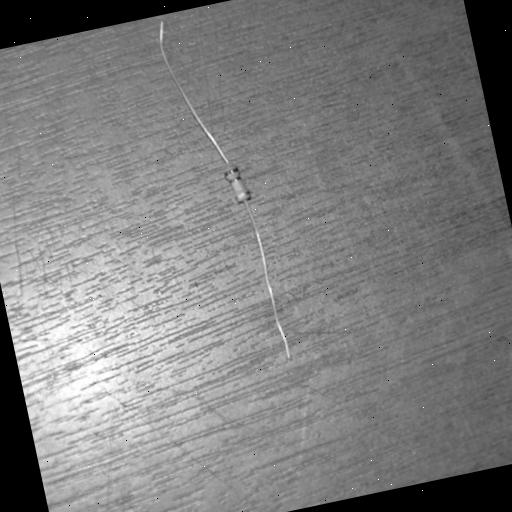RESISTOR: (172, 116, 362, 322)
